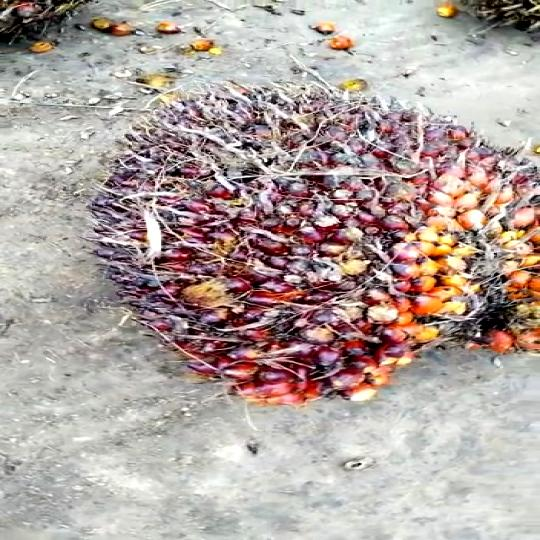masak: (111, 70, 540, 426)
